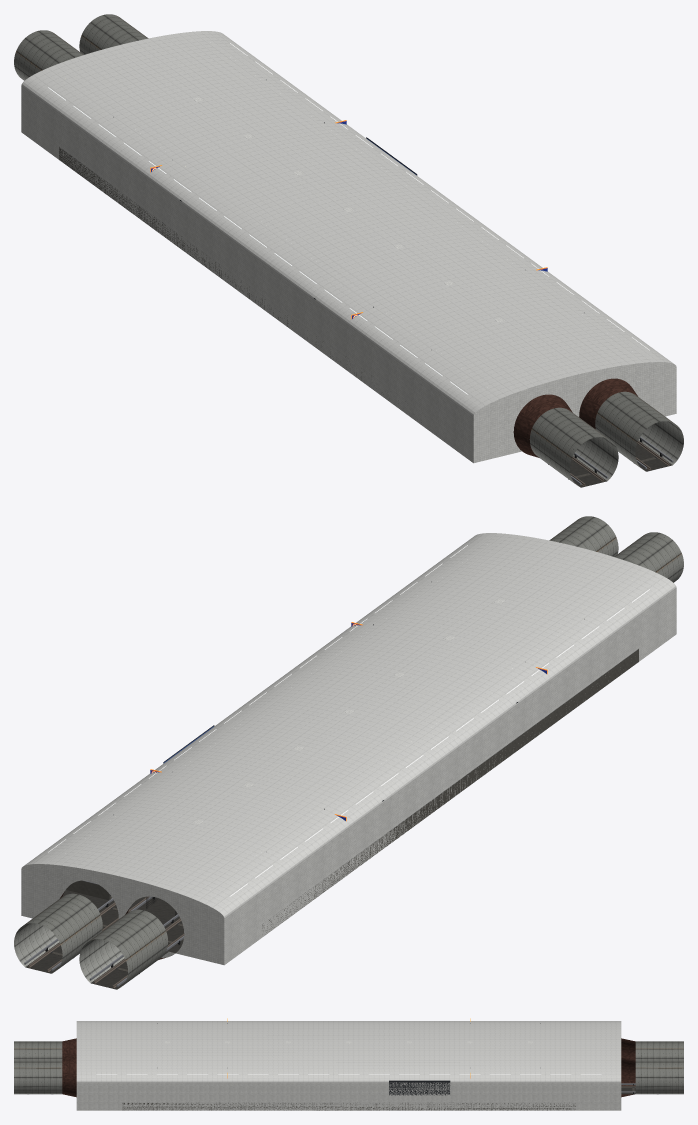
Rendered from station_ibrox.glb.
3 views of the same model, one above another, from view 1: azimuth 30°, elevation 25°; view 2: azimuth 150°, elevation 25°; view 3: azimuth 270°, elevation 25° (orthographic). The views are drawn at different scales.
Parts seen in each view (by area): view 1: hall_shell, end_walls, hall_lights; view 2: hall_shell, end_walls, hall_lights; view 3: hall_shell, end_walls, hall_art, hall_lights.
Part boxes in pixels (x1=…): hall_shell: x1=21, y1=31, x2=673, y2=486; end_walls: x1=14, y1=14, x2=683, y2=487; hall_lights: x1=48, y1=43, x2=649, y2=394; hall_shell: x1=24, y1=533, x2=676, y2=988; end_walls: x1=14, y1=516, x2=683, y2=989; hall_lights: x1=48, y1=545, x2=649, y2=896; hall_shell: x1=27, y1=1021, x2=658, y2=1110; end_walls: x1=14, y1=1038, x2=683, y2=1097; hall_art: x1=389, y1=1080, x2=450, y2=1095; hall_lights: x1=96, y1=1074, x2=601, y2=1074.
Bounding box in the file's own units: 14 × 4.75 × 66.4.
35 materials, 22 textured.
